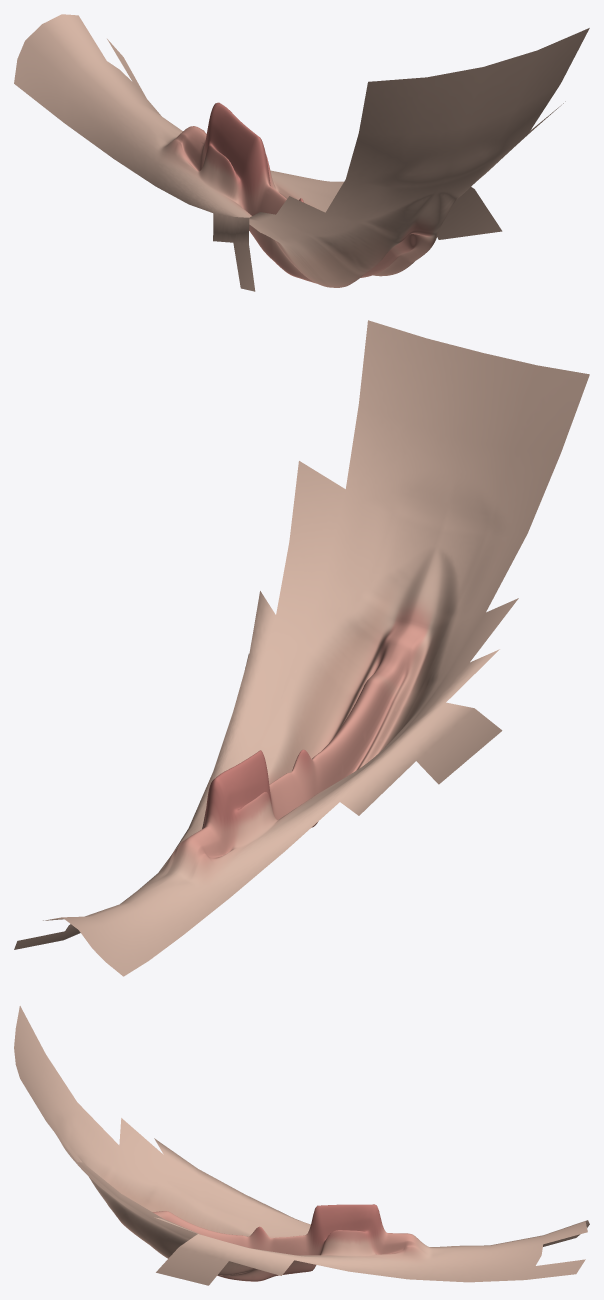
File: female-integumentary.glb
3 renders of one model, top to bottom at view 1: azimuth 30°, elevation 25°; view 2: azimuth 150°, elevation 25°; view 3: azimuth 270°, elevation 25°, orthographic. The views are drawn at different scales.
Parts seen in each view (by area): view 1: Skin_Genitals; view 2: Skin_Genitals; view 3: Skin_Genitals.
Boxes of the visible parts, bbox=[...] form: Skin_Genitals: bbox=[14, 14, 589, 291]; Skin_Genitals: bbox=[14, 320, 589, 976]; Skin_Genitals: bbox=[14, 1006, 589, 1285].
Size of the model in its own units: 0.0398 by 0.051 by 0.1136.
